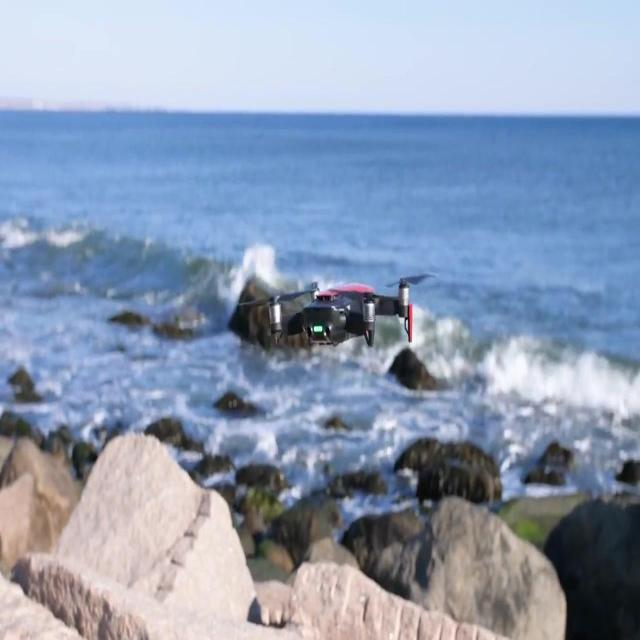drone: (235, 268, 437, 351)
